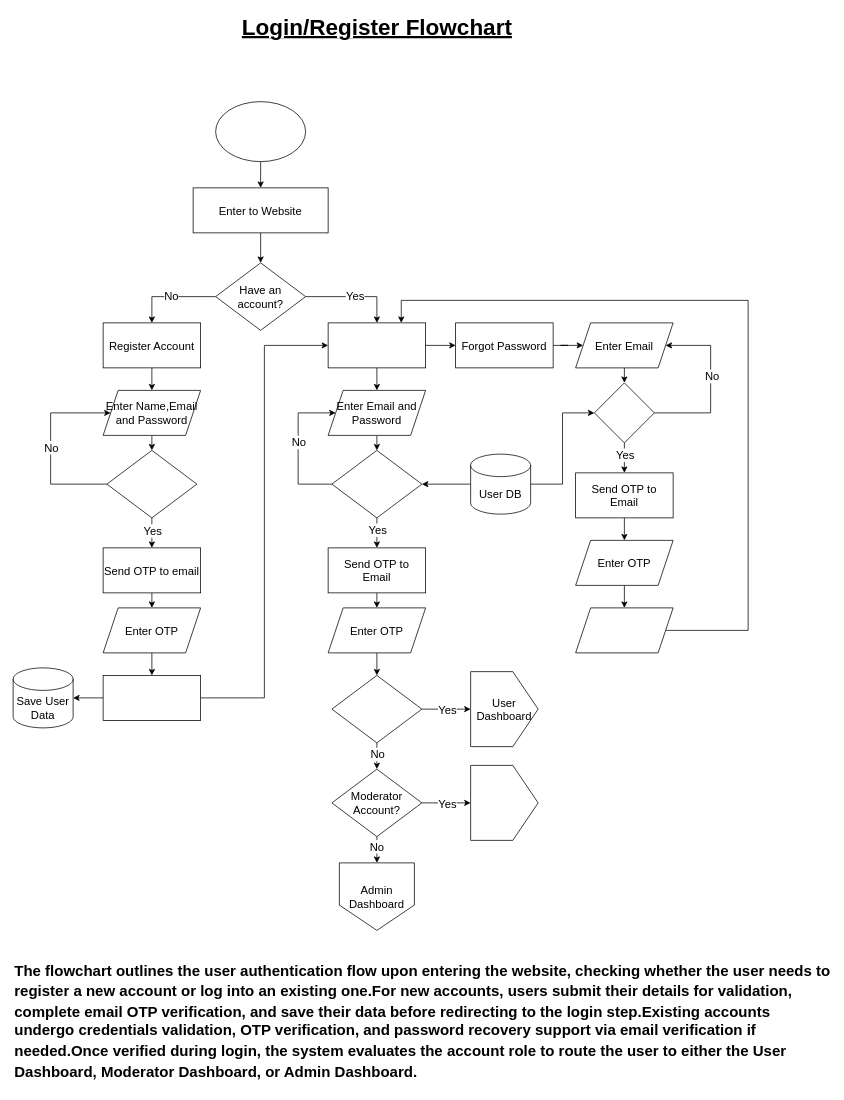
Image size: 844x1100. Some labels were removed from this diagram. The shapes that lost their labels are listed below. From the top down, each one's box as (x1, y1, x2, y2) in pixels, then its label:
(215, 101, 306, 162): Start
(327, 322, 426, 368): Login
(594, 382, 654, 443): Valid Email?
(106, 450, 197, 518): Input valid?
(331, 450, 422, 518): Valid Input?
(575, 607, 673, 653): Change Password
(102, 675, 201, 720): Register Successful
(331, 675, 422, 743): User Account?
(470, 765, 538, 840): Moderator Dashboard
